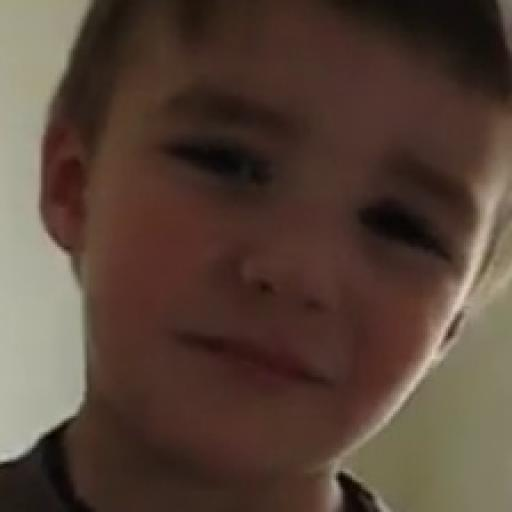Autism: (3, 6, 512, 512)
